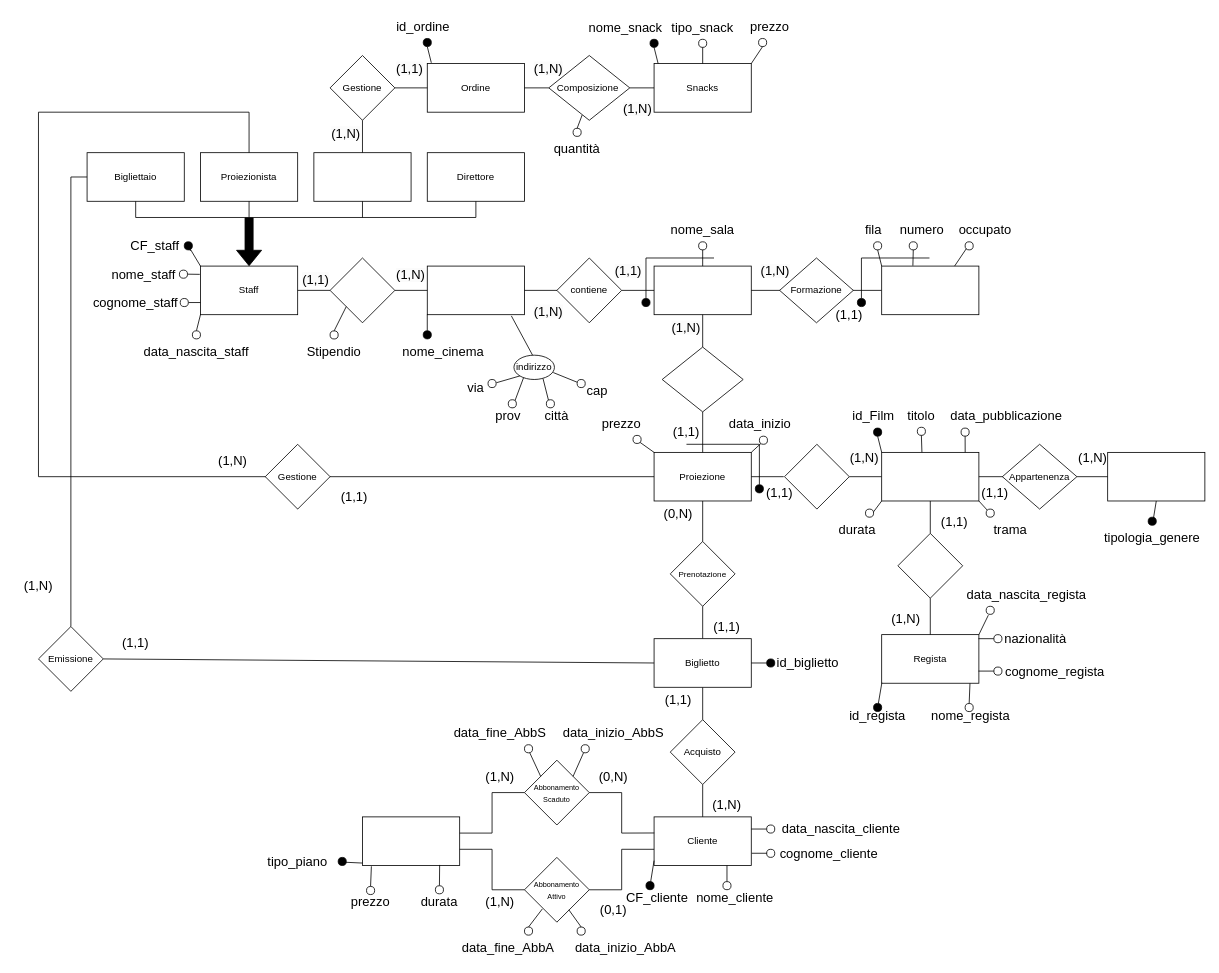
The diagram is 1219 pixels wide and 973 high, and some of its shapes have lost their labels. The shapes that lost their labels are listed below. From the top down, each one's centre as x and y in pixels, then its label:
(362,176): Barista
(362,290): Impiego
(475,290): Cinema
(702,290): Sala
(930,290): Posto
(702,379): Assegnazione
(816,476): Visione
(930,476): Film
(1156,476): Genere
(930,565): Direzione
(411,840): Abbonamento
